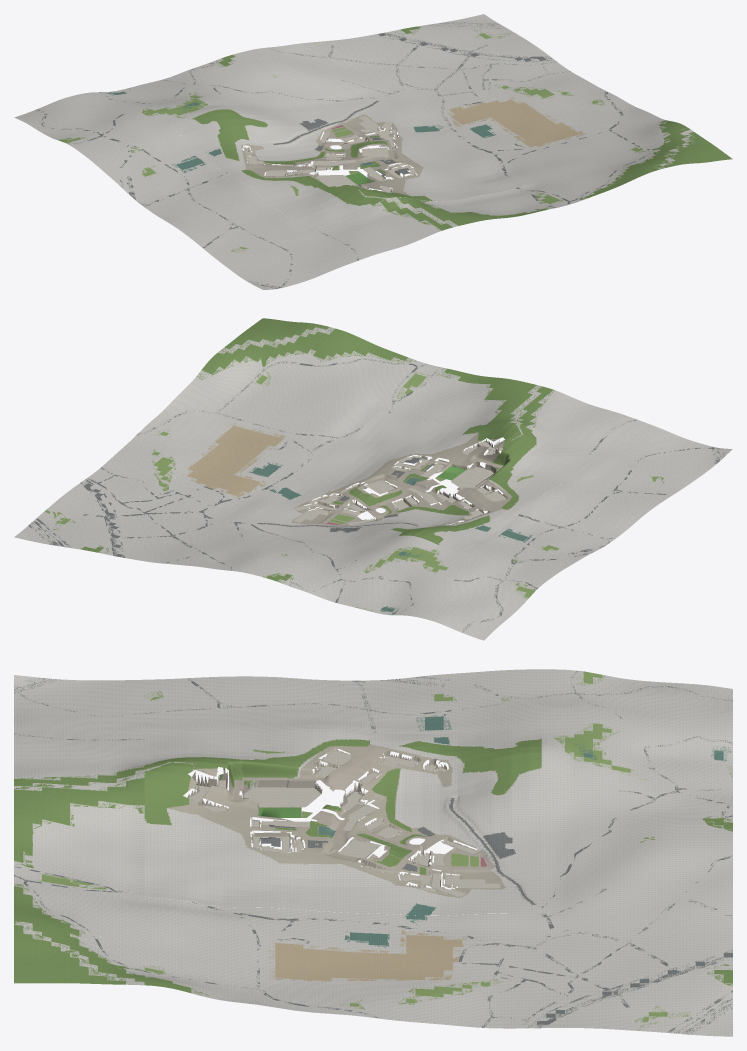
3 views of the same model, one above another, from view 1: azimuth 30°, elevation 25°; view 2: azimuth 150°, elevation 25°; view 3: azimuth 270°, elevation 25° (orthographic). The views are drawn at different scales.
Visible parts, largest first — view 1: ground-city, ground-wood, ground-base, ground-asphalt-overlay, ground-construction, building-floor-cap, ground-grass, ground-wood-overlay, ground-paving, ground-asphalt, ground-grass-overlay, ground-court; view 2: ground-city, ground-wood, ground-base, ground-asphalt-overlay, ground-construction, building-floor-cap, ground-wood-overlay, ground-grass, ground-paving, ground-grass-overlay, ground-asphalt, ground-court; view 3: ground-city, ground-wood, ground-base, building-floor-cap, ground-asphalt-overlay, ground-construction, ground-paving, ground-wood-overlay, ground-grass, ground-asphalt, ground-grass-overlay, ground-court (+1 smaller).
Boxes of the visible parts, x1,y1,x2,y2 form: ground-city: (14, 14, 695, 289); ground-wood: (192, 26, 732, 230); ground-base: (241, 114, 423, 195); ground-asphalt-overlay: (35, 22, 650, 288); ground-construction: (449, 99, 580, 146); building-floor-cap: (244, 116, 416, 192); ground-grass: (59, 33, 642, 203); ground-wood-overlay: (195, 26, 695, 230); ground-paving: (247, 106, 375, 188); ground-asphalt: (274, 33, 545, 175); ground-grass-overlay: (58, 29, 645, 252); ground-court: (112, 91, 492, 169); ground-city: (14, 327, 732, 640); ground-wood: (81, 318, 553, 581); ground-base: (291, 433, 512, 526); ground-asphalt-overlay: (28, 358, 724, 632); ground-construction: (187, 425, 283, 495); building-floor-cap: (294, 442, 506, 525); ground-wood-overlay: (80, 328, 554, 583); ground-grass: (59, 373, 559, 597); ground-paving: (272, 459, 503, 527); ground-grass-overlay: (44, 370, 664, 611); ground-asphalt: (85, 457, 434, 556); ground-court: (251, 463, 528, 611); ground-city: (14, 669, 732, 1036); ground-wood: (14, 738, 732, 992); ground-base: (167, 744, 506, 897); building-floor-cap: (188, 751, 500, 896); ground-asphalt-overlay: (14, 671, 732, 1034); ground-construction: (275, 935, 462, 980); ground-paving: (234, 746, 526, 897); ground-wood-overlay: (14, 739, 732, 995); ground-grass: (42, 671, 667, 1016); ground-asphalt: (260, 798, 732, 1024); ground-grass-overlay: (37, 672, 732, 1030); ground-court: (318, 716, 723, 945).
Bounding box in the file's own units: 1344 × 122 × 1232.
26 materials, 24 textured.
